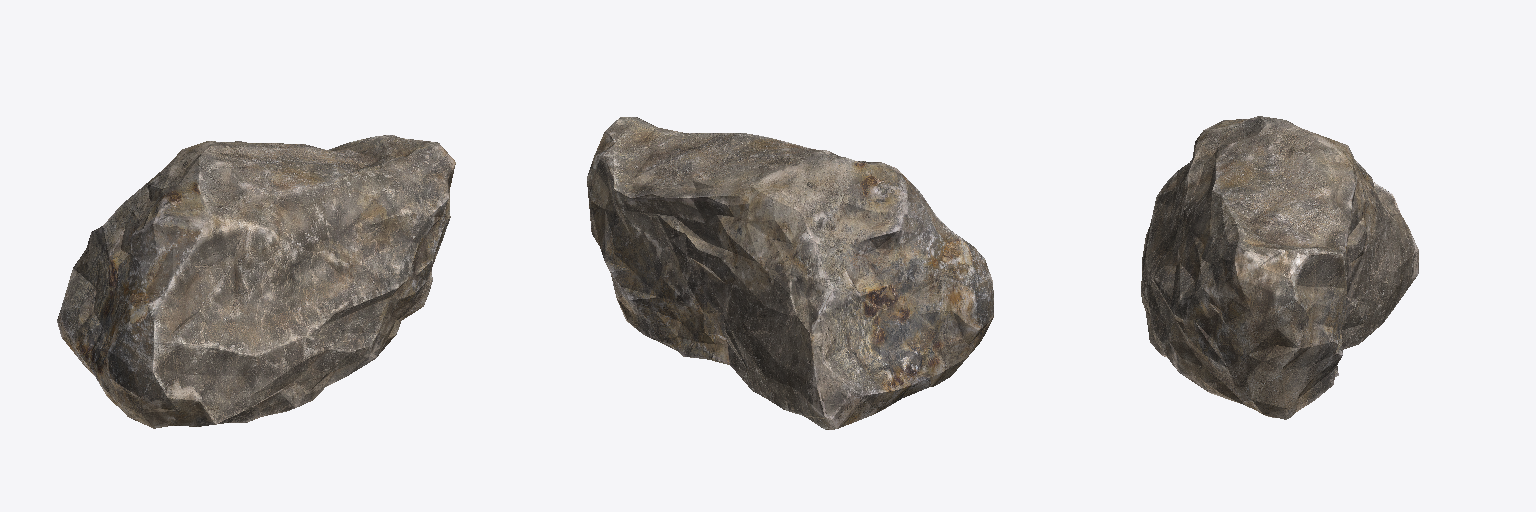
3 renders of one model, left to right at view 1: azimuth 30°, elevation 25°; view 2: azimuth 150°, elevation 25°; view 3: azimuth 270°, elevation 25°, orthographic.
Parts seen in each view (by area): view 1: rock; view 2: rock; view 3: rock.
Part boxes in pixels (x1,y1,x2,y2): rock: (57, 135, 455, 428); rock: (587, 117, 993, 429); rock: (1141, 116, 1418, 419).
Bounding box in the file's own units: 1.65 × 0.9695 × 1.11.
Materials: 1 (1 with a texture image).